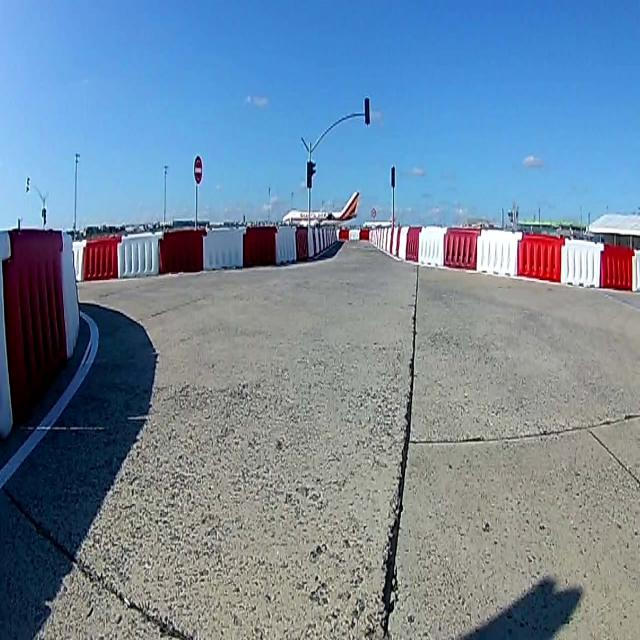girisyok: (193, 153, 204, 187)
